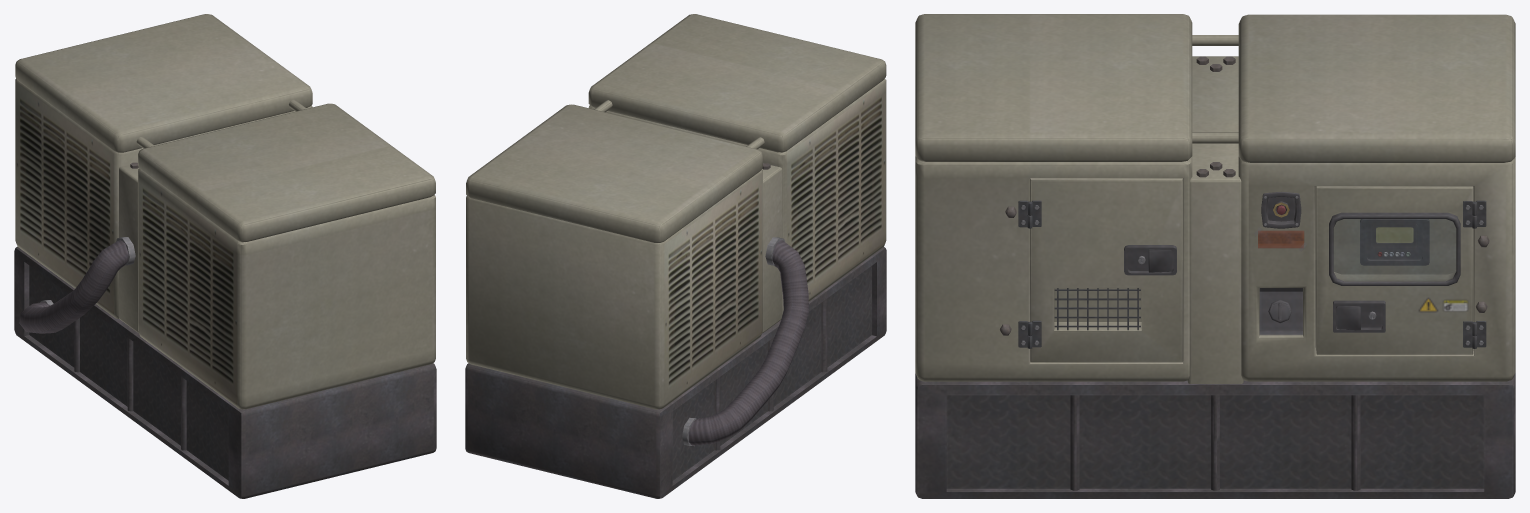
File: simple_generatorfixed.glb
The picture shows the model from 3 angles, left to right: view 1: azimuth 30°, elevation 25°; view 2: azimuth 150°, elevation 25°; view 3: azimuth 270°, elevation 25°; orthographic projection. The views are drawn at different scales.
Visible parts, largest first — view 1: Object_2; view 2: Object_2; view 3: Object_2.
Part boxes in pixels (left/top/right/bottom): Object_2: left=14, top=14, right=436, bottom=498; Object_2: left=465, top=14, right=886, bottom=498; Object_2: left=915, top=14, right=1515, bottom=498.
Bounding box in the file's own units: 23.08 × 24.4 × 36.44.
Materials: 1 (1 with a texture image).
